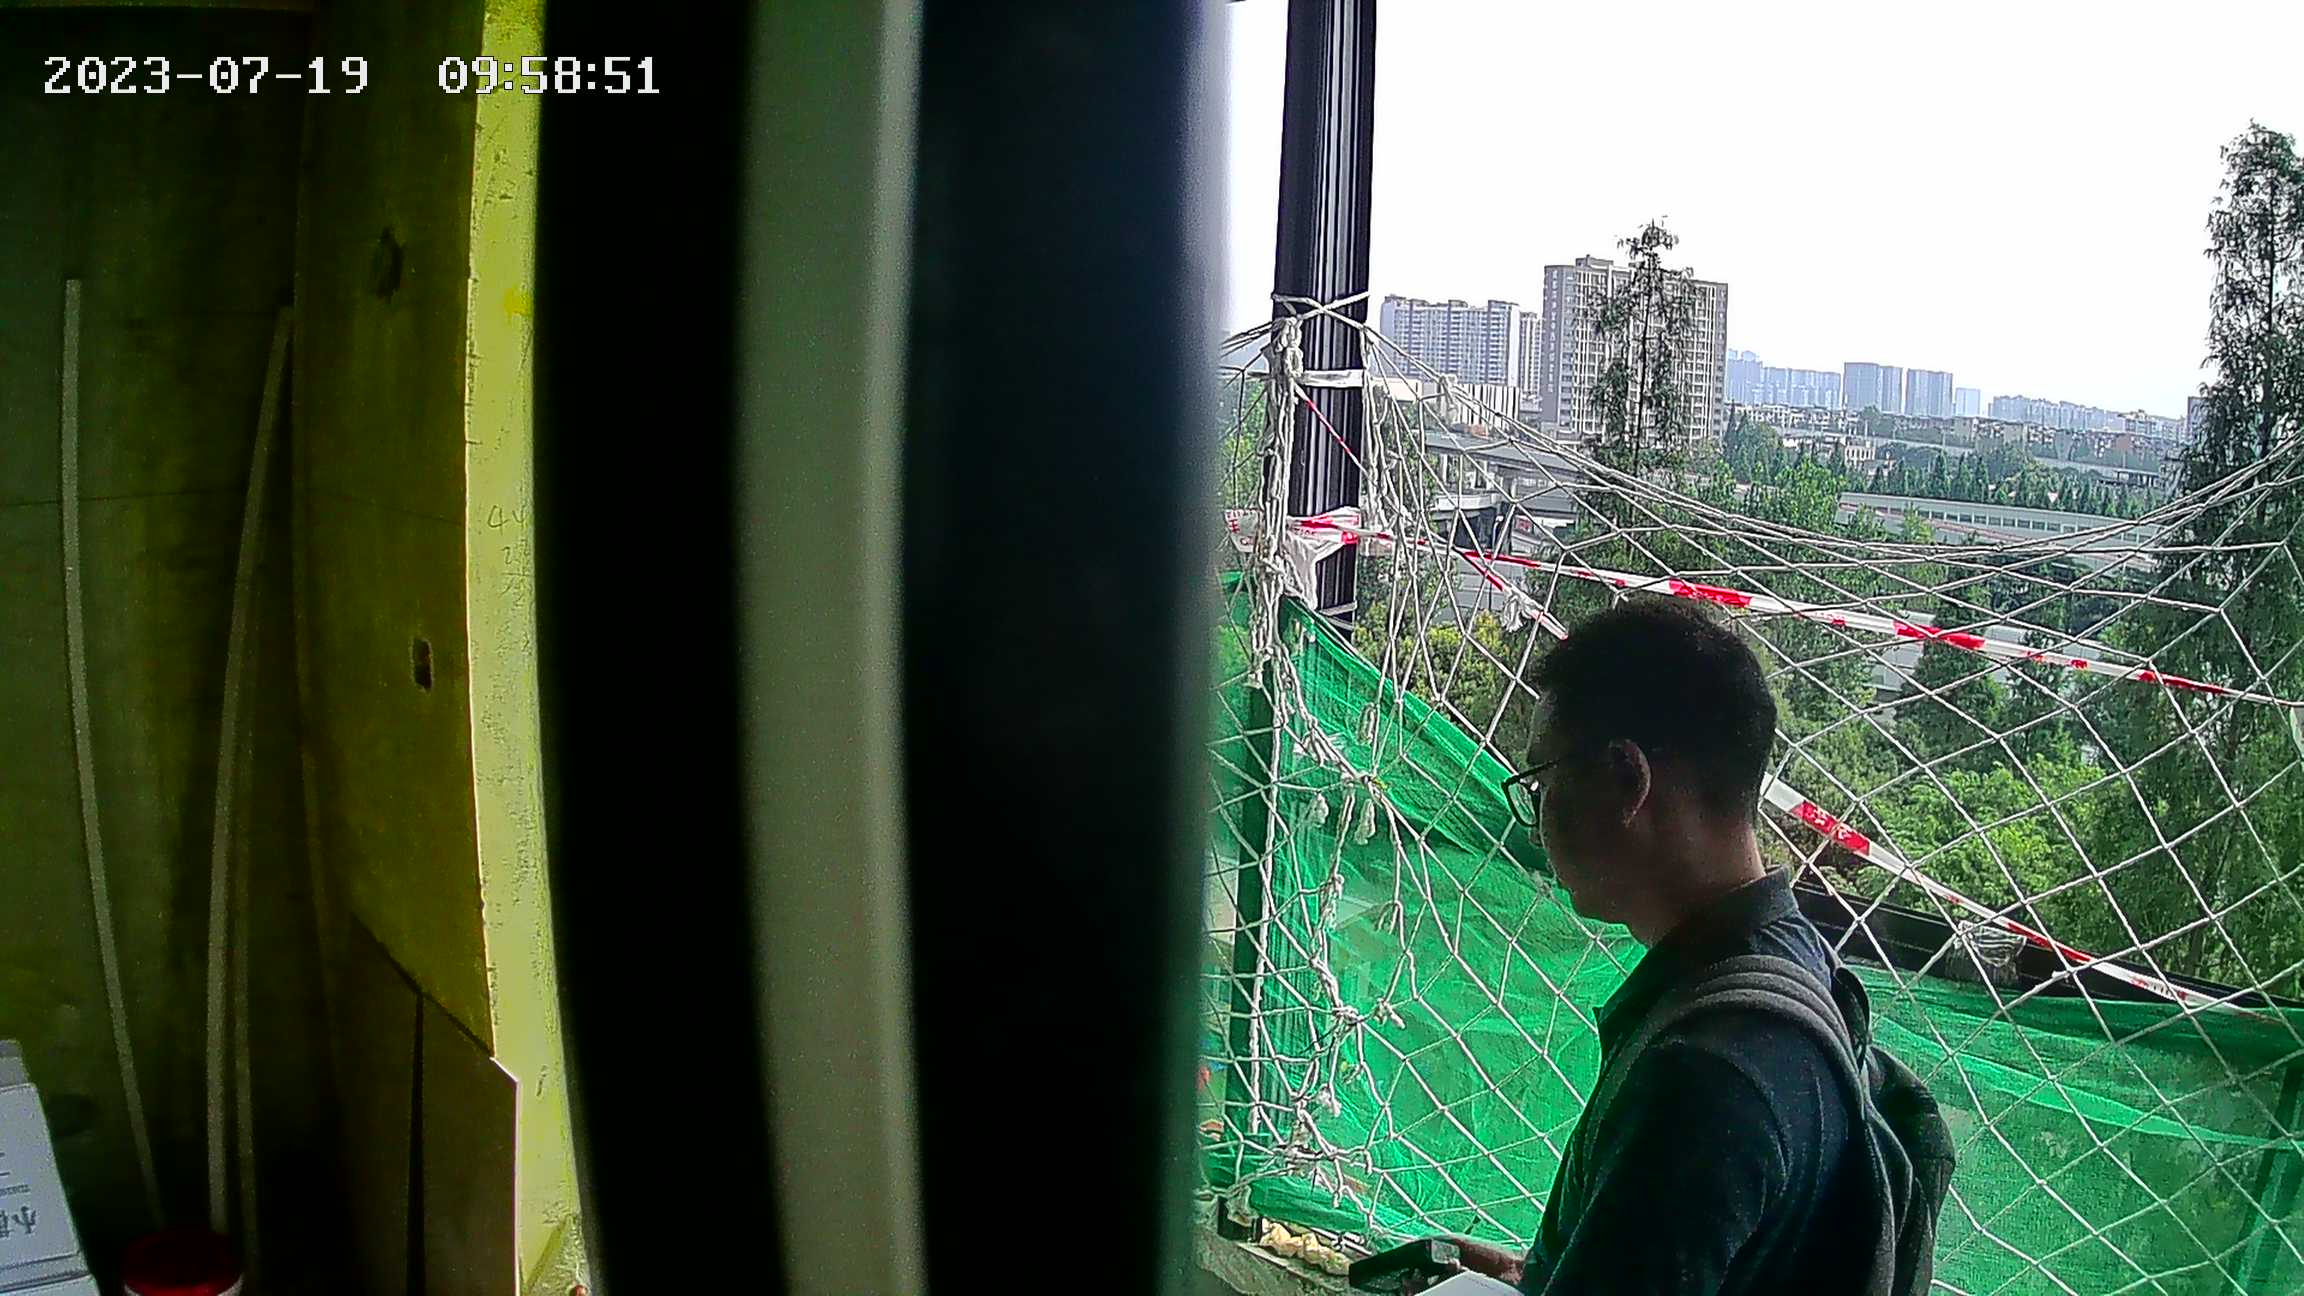people: (1430, 595, 1951, 1296)
window: (1240, 8, 2303, 1296)
